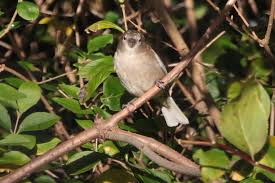hsparrow: (109, 29, 191, 127)
